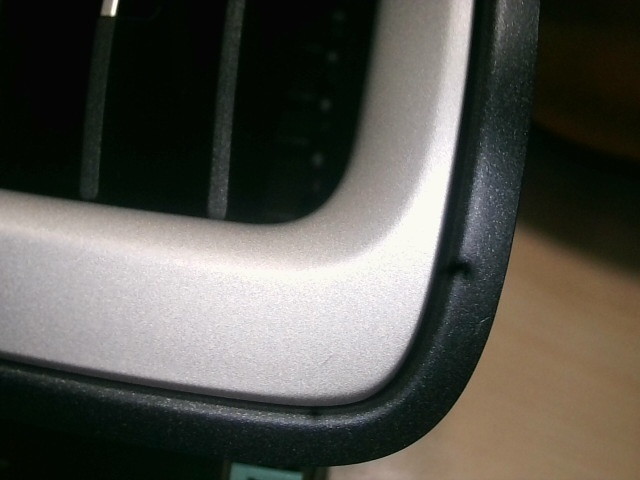NG: (470, 311, 495, 339), (316, 347, 341, 370)
